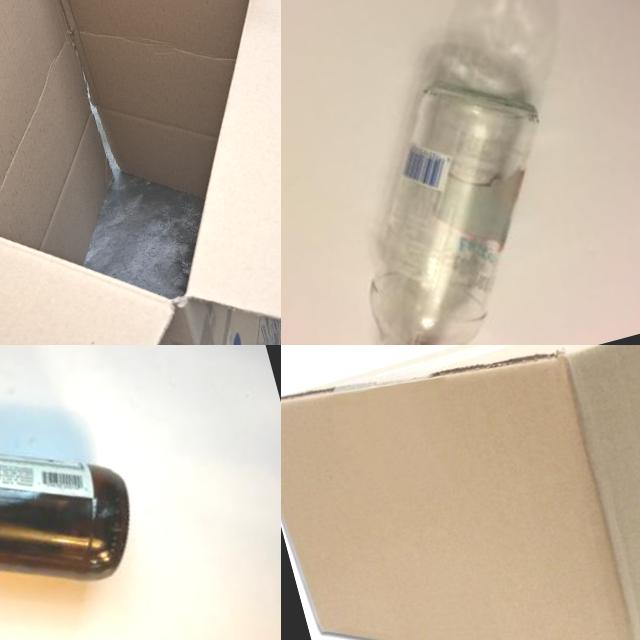garrafa de vidro: (291, 62, 599, 345), (0, 375, 149, 640)
garrafa plástica: (281, 345, 640, 640)
papelão: (0, 0, 281, 345)
